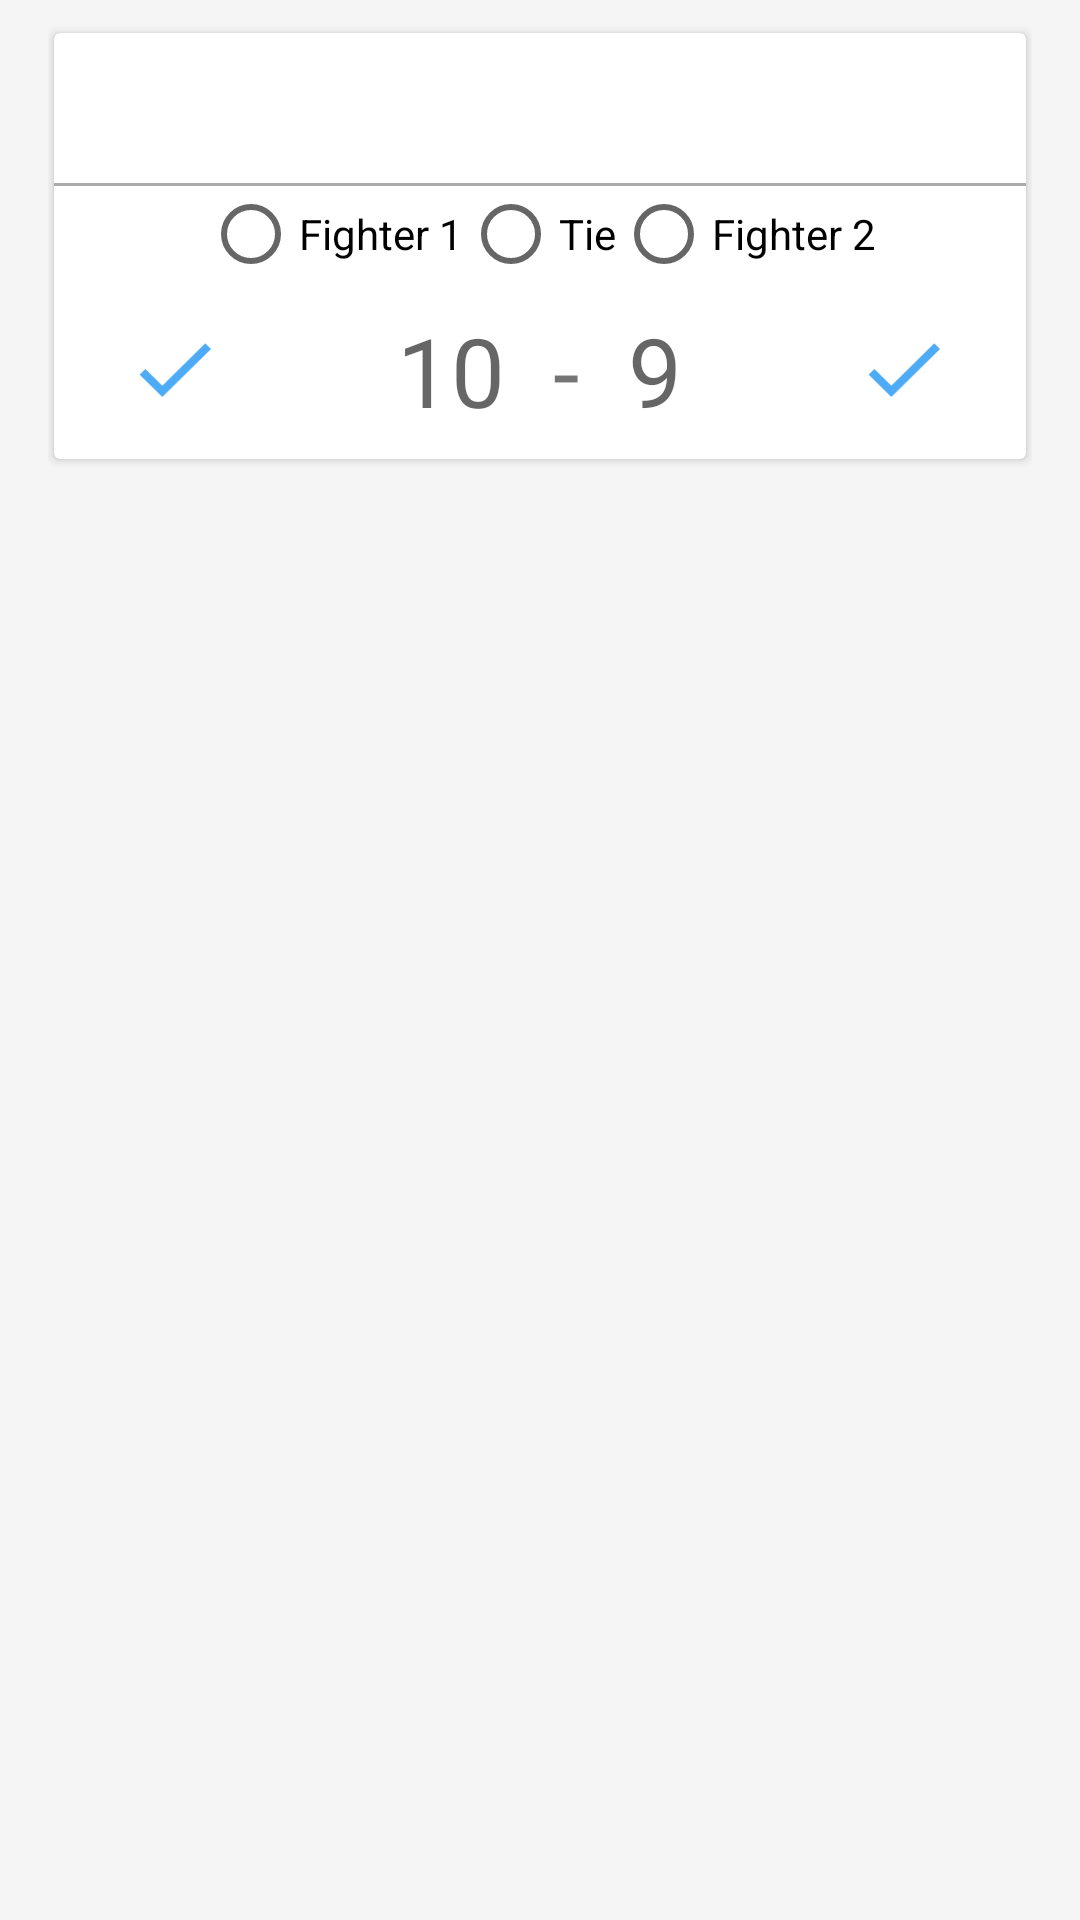

Icon bounding boxes for this 1080 × 1920 phone screenshot, format (x1, y1, x2, y2):
done: (140, 343, 211, 397), (869, 343, 940, 397)
